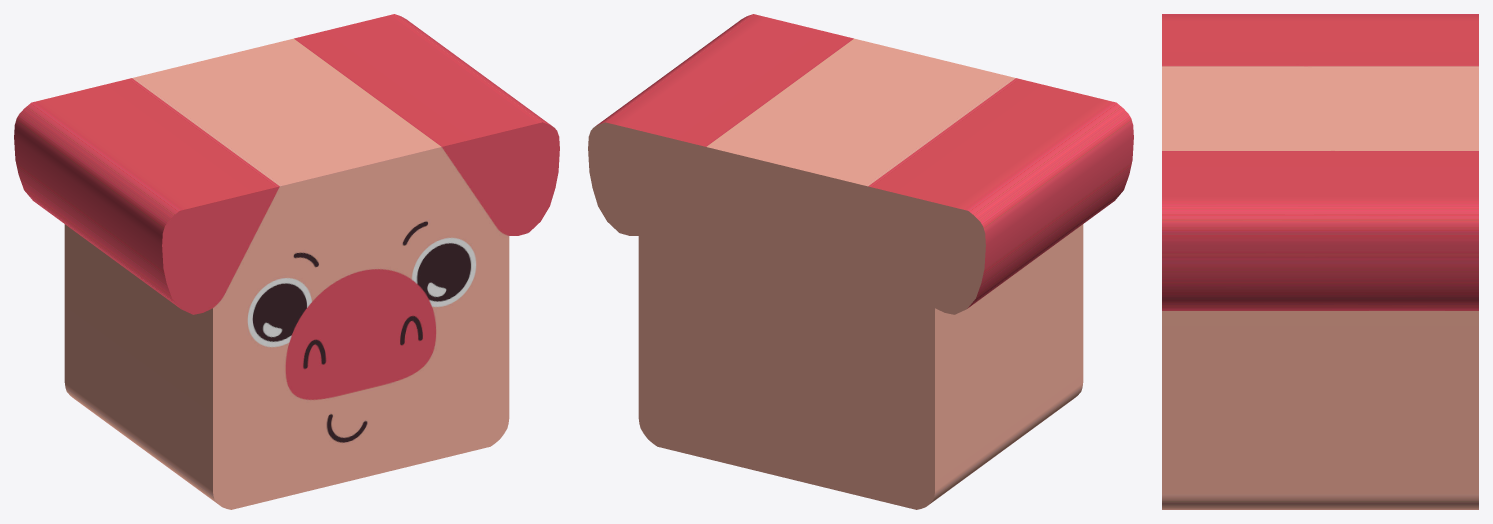
File: Pig.obj
The picture shows the model from 3 angles, left to right: view 1: azimuth 30°, elevation 25°; view 2: azimuth 150°, elevation 25°; view 3: azimuth 270°, elevation 25°; orthographic projection. The views are drawn at different scales.
Parts seen in each view (by area): view 1: Pig; view 2: Pig; view 3: Pig.
Part boxes in pixels (left/top/right/bottom): Pig: left=14, top=14, right=559, bottom=509; Pig: left=588, top=14, right=1133, bottom=509; Pig: left=1162, top=14, right=1478, bottom=509.
Size of the model in its own units: 7.18 by 5.37 by 4.63.
